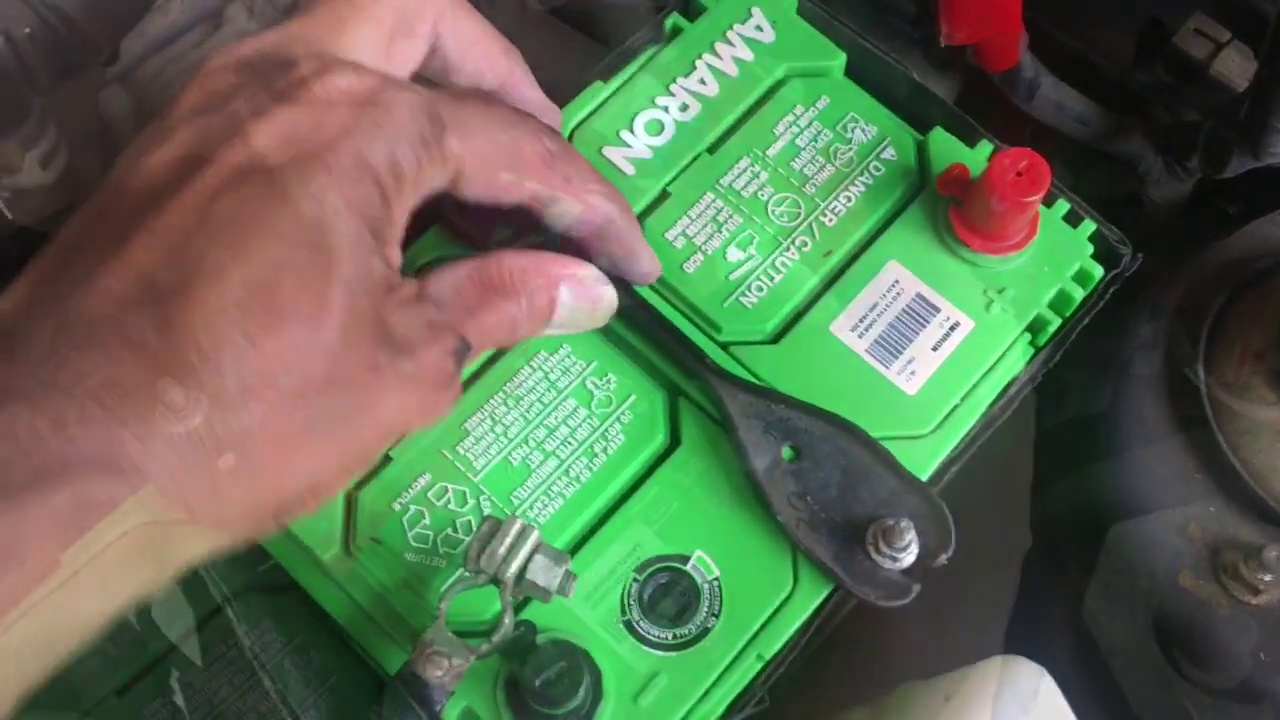battery: (223, 7, 1091, 720)
pos_disconnected: (901, 8, 1090, 257)
